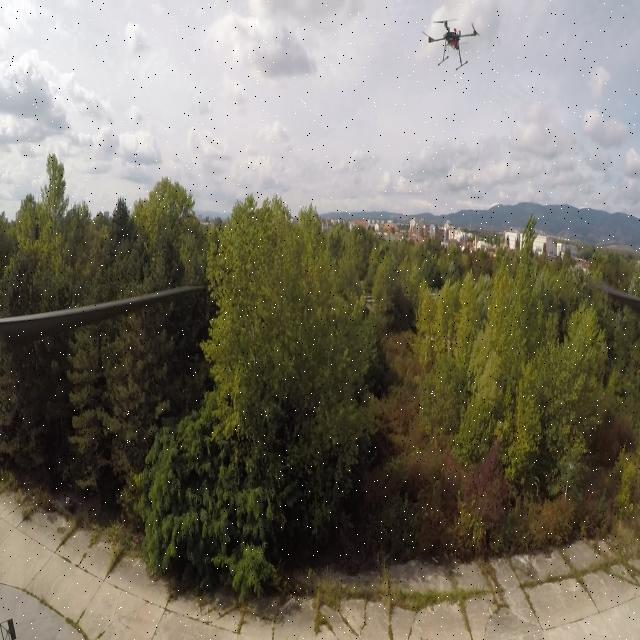UAV: (416, 9, 486, 70)
